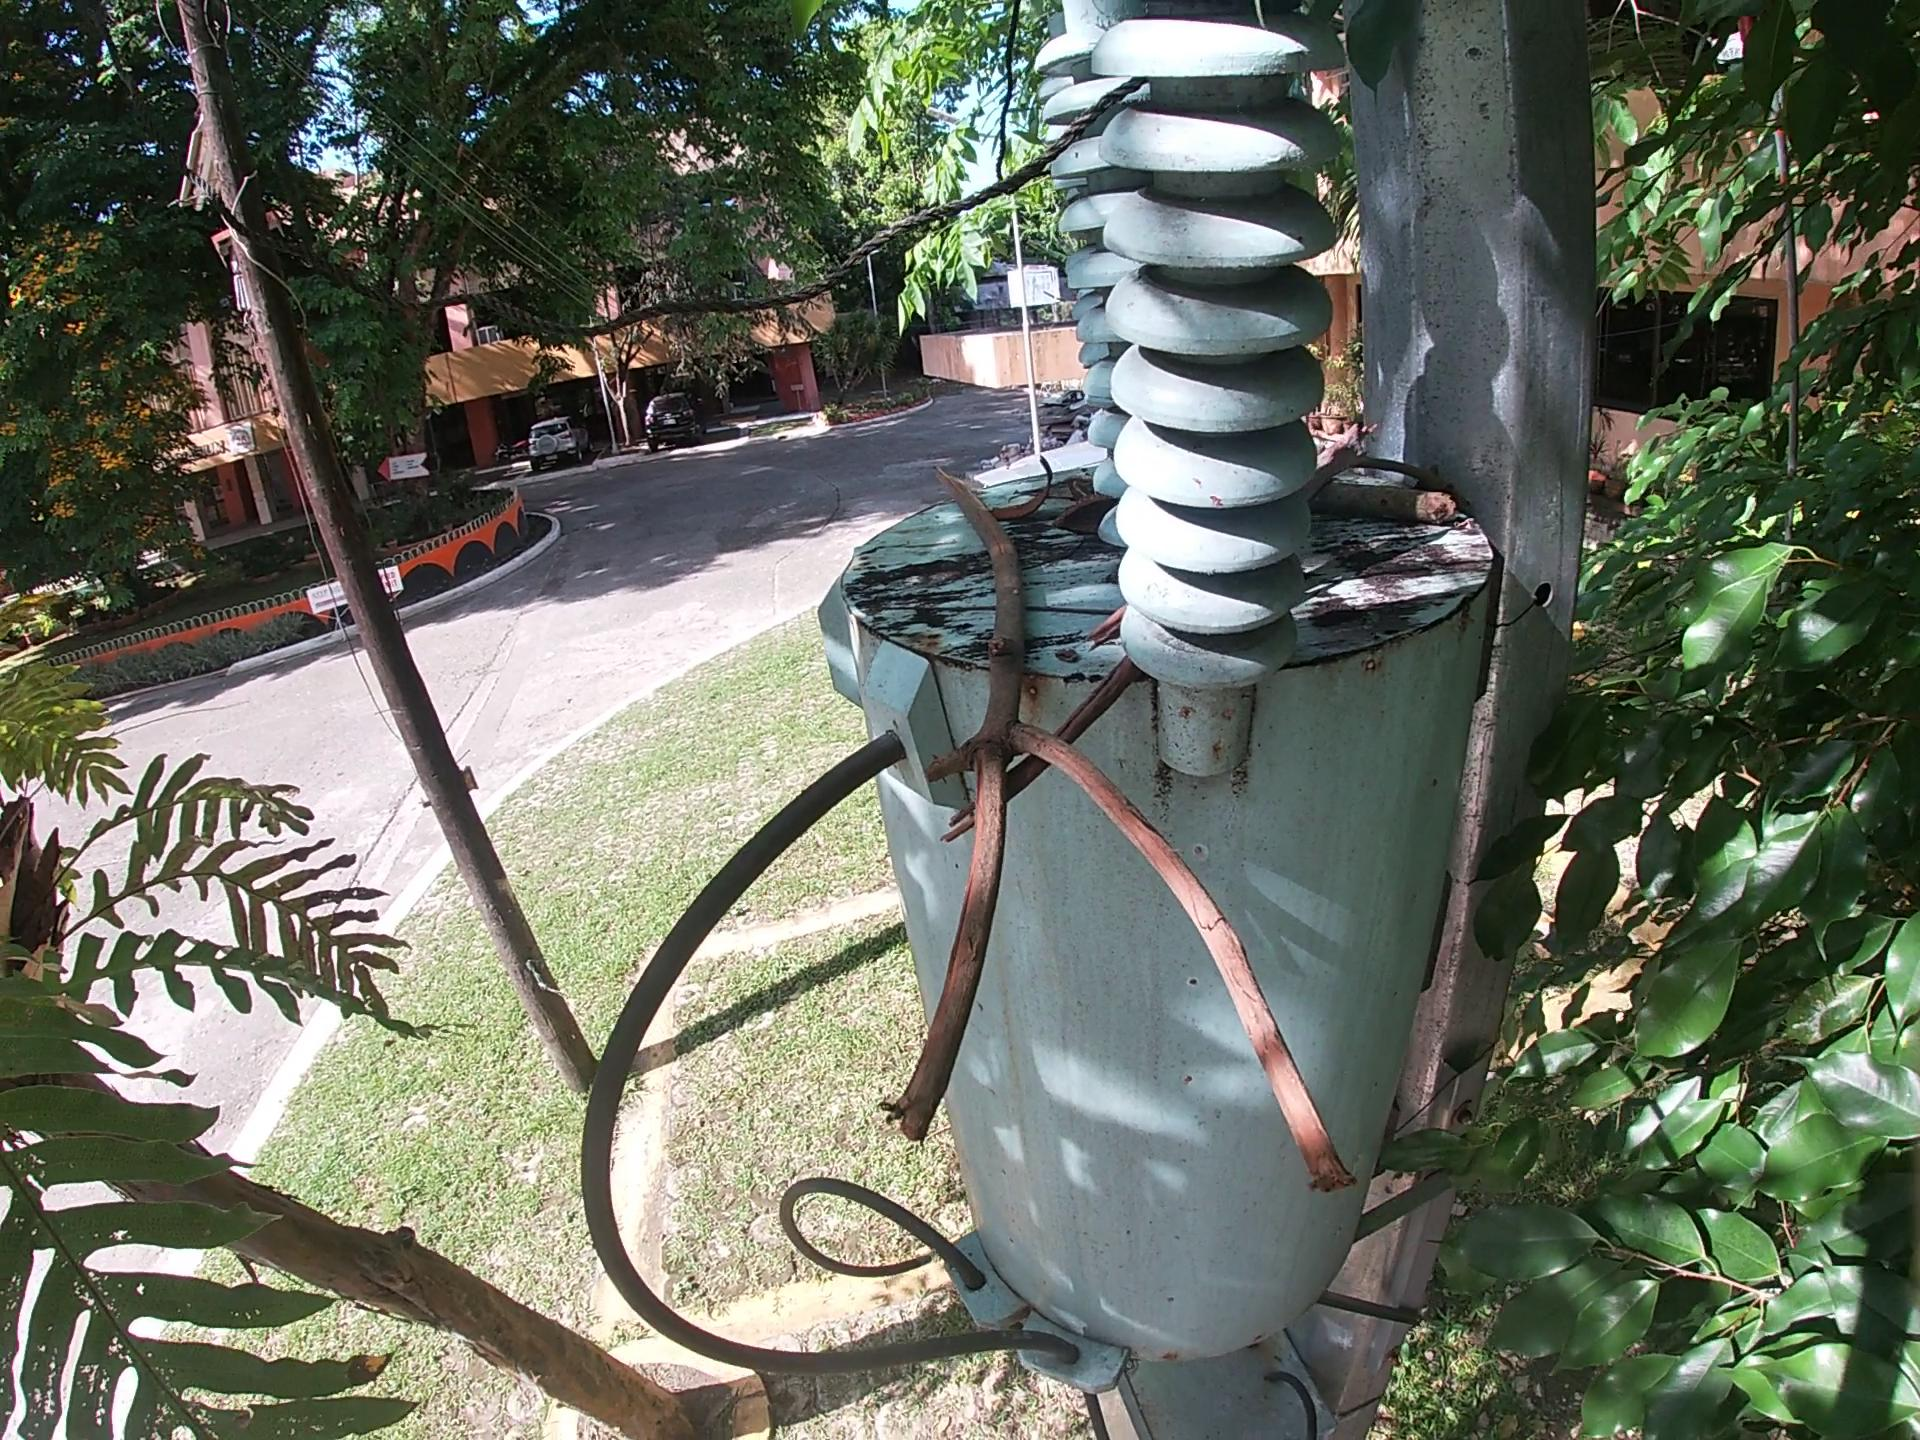mahogany fruit: (998, 452, 1066, 516), (1048, 505, 1116, 548)
tree branch: (898, 467, 1392, 1245), (937, 664, 1138, 850), (887, 591, 1129, 622), (1315, 486, 1473, 522), (1300, 424, 1377, 475), (1085, 605, 1126, 664), (1342, 467, 1453, 489)
